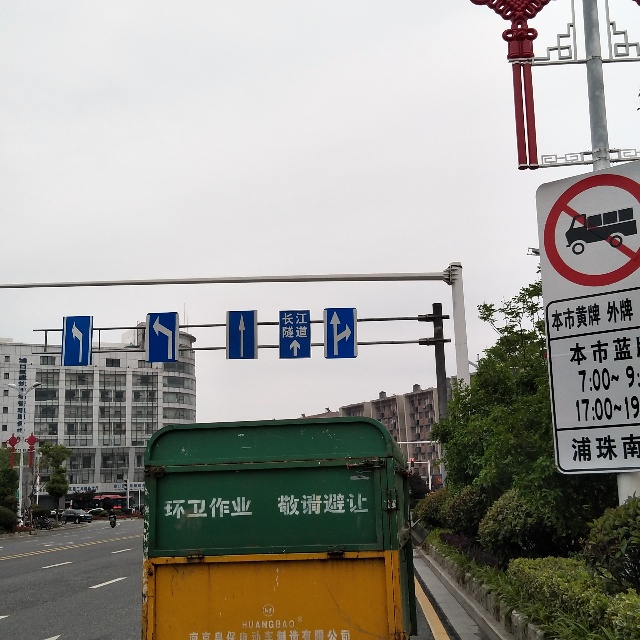left: (146, 311, 179, 362), (61, 315, 92, 366)
straight: (226, 310, 259, 360)
